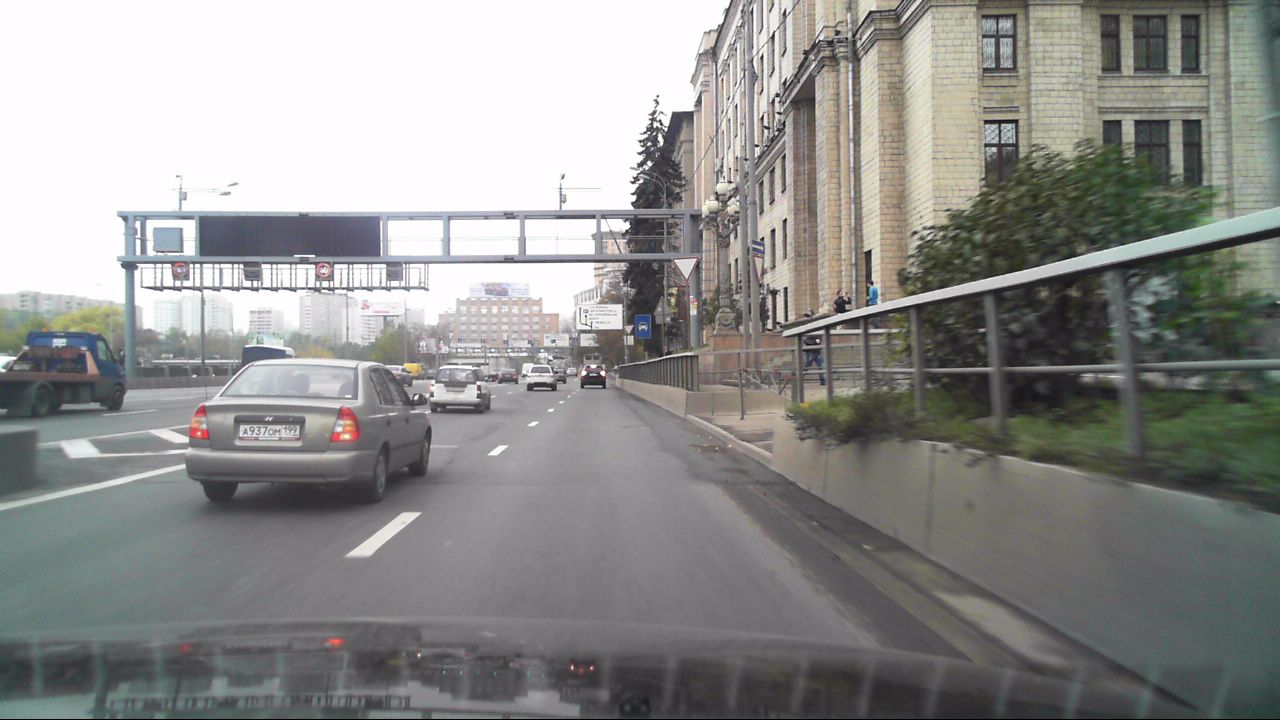One-Way Traffic: (751, 239, 766, 253)
